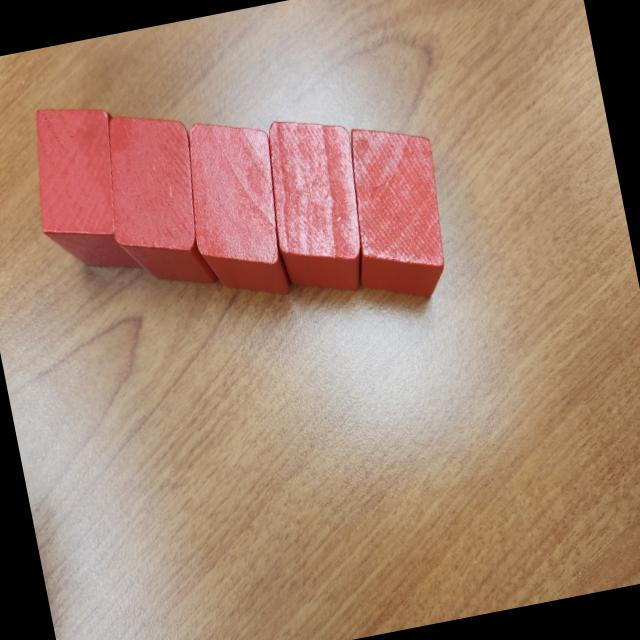red: (172, 110, 300, 312), (331, 114, 461, 312), (253, 106, 380, 305), (91, 104, 218, 302), (21, 96, 142, 284)
